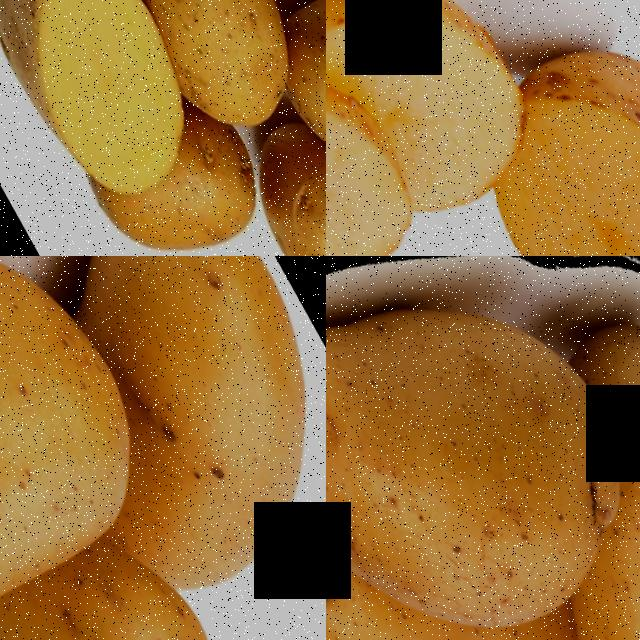potato: (326, 256, 640, 640), (14, 256, 326, 597), (0, 256, 192, 640), (0, 0, 222, 221), (483, 0, 640, 256), (91, 0, 320, 142), (0, 515, 250, 640), (326, 0, 446, 256), (71, 124, 276, 256), (259, 0, 326, 213), (233, 134, 326, 256)
